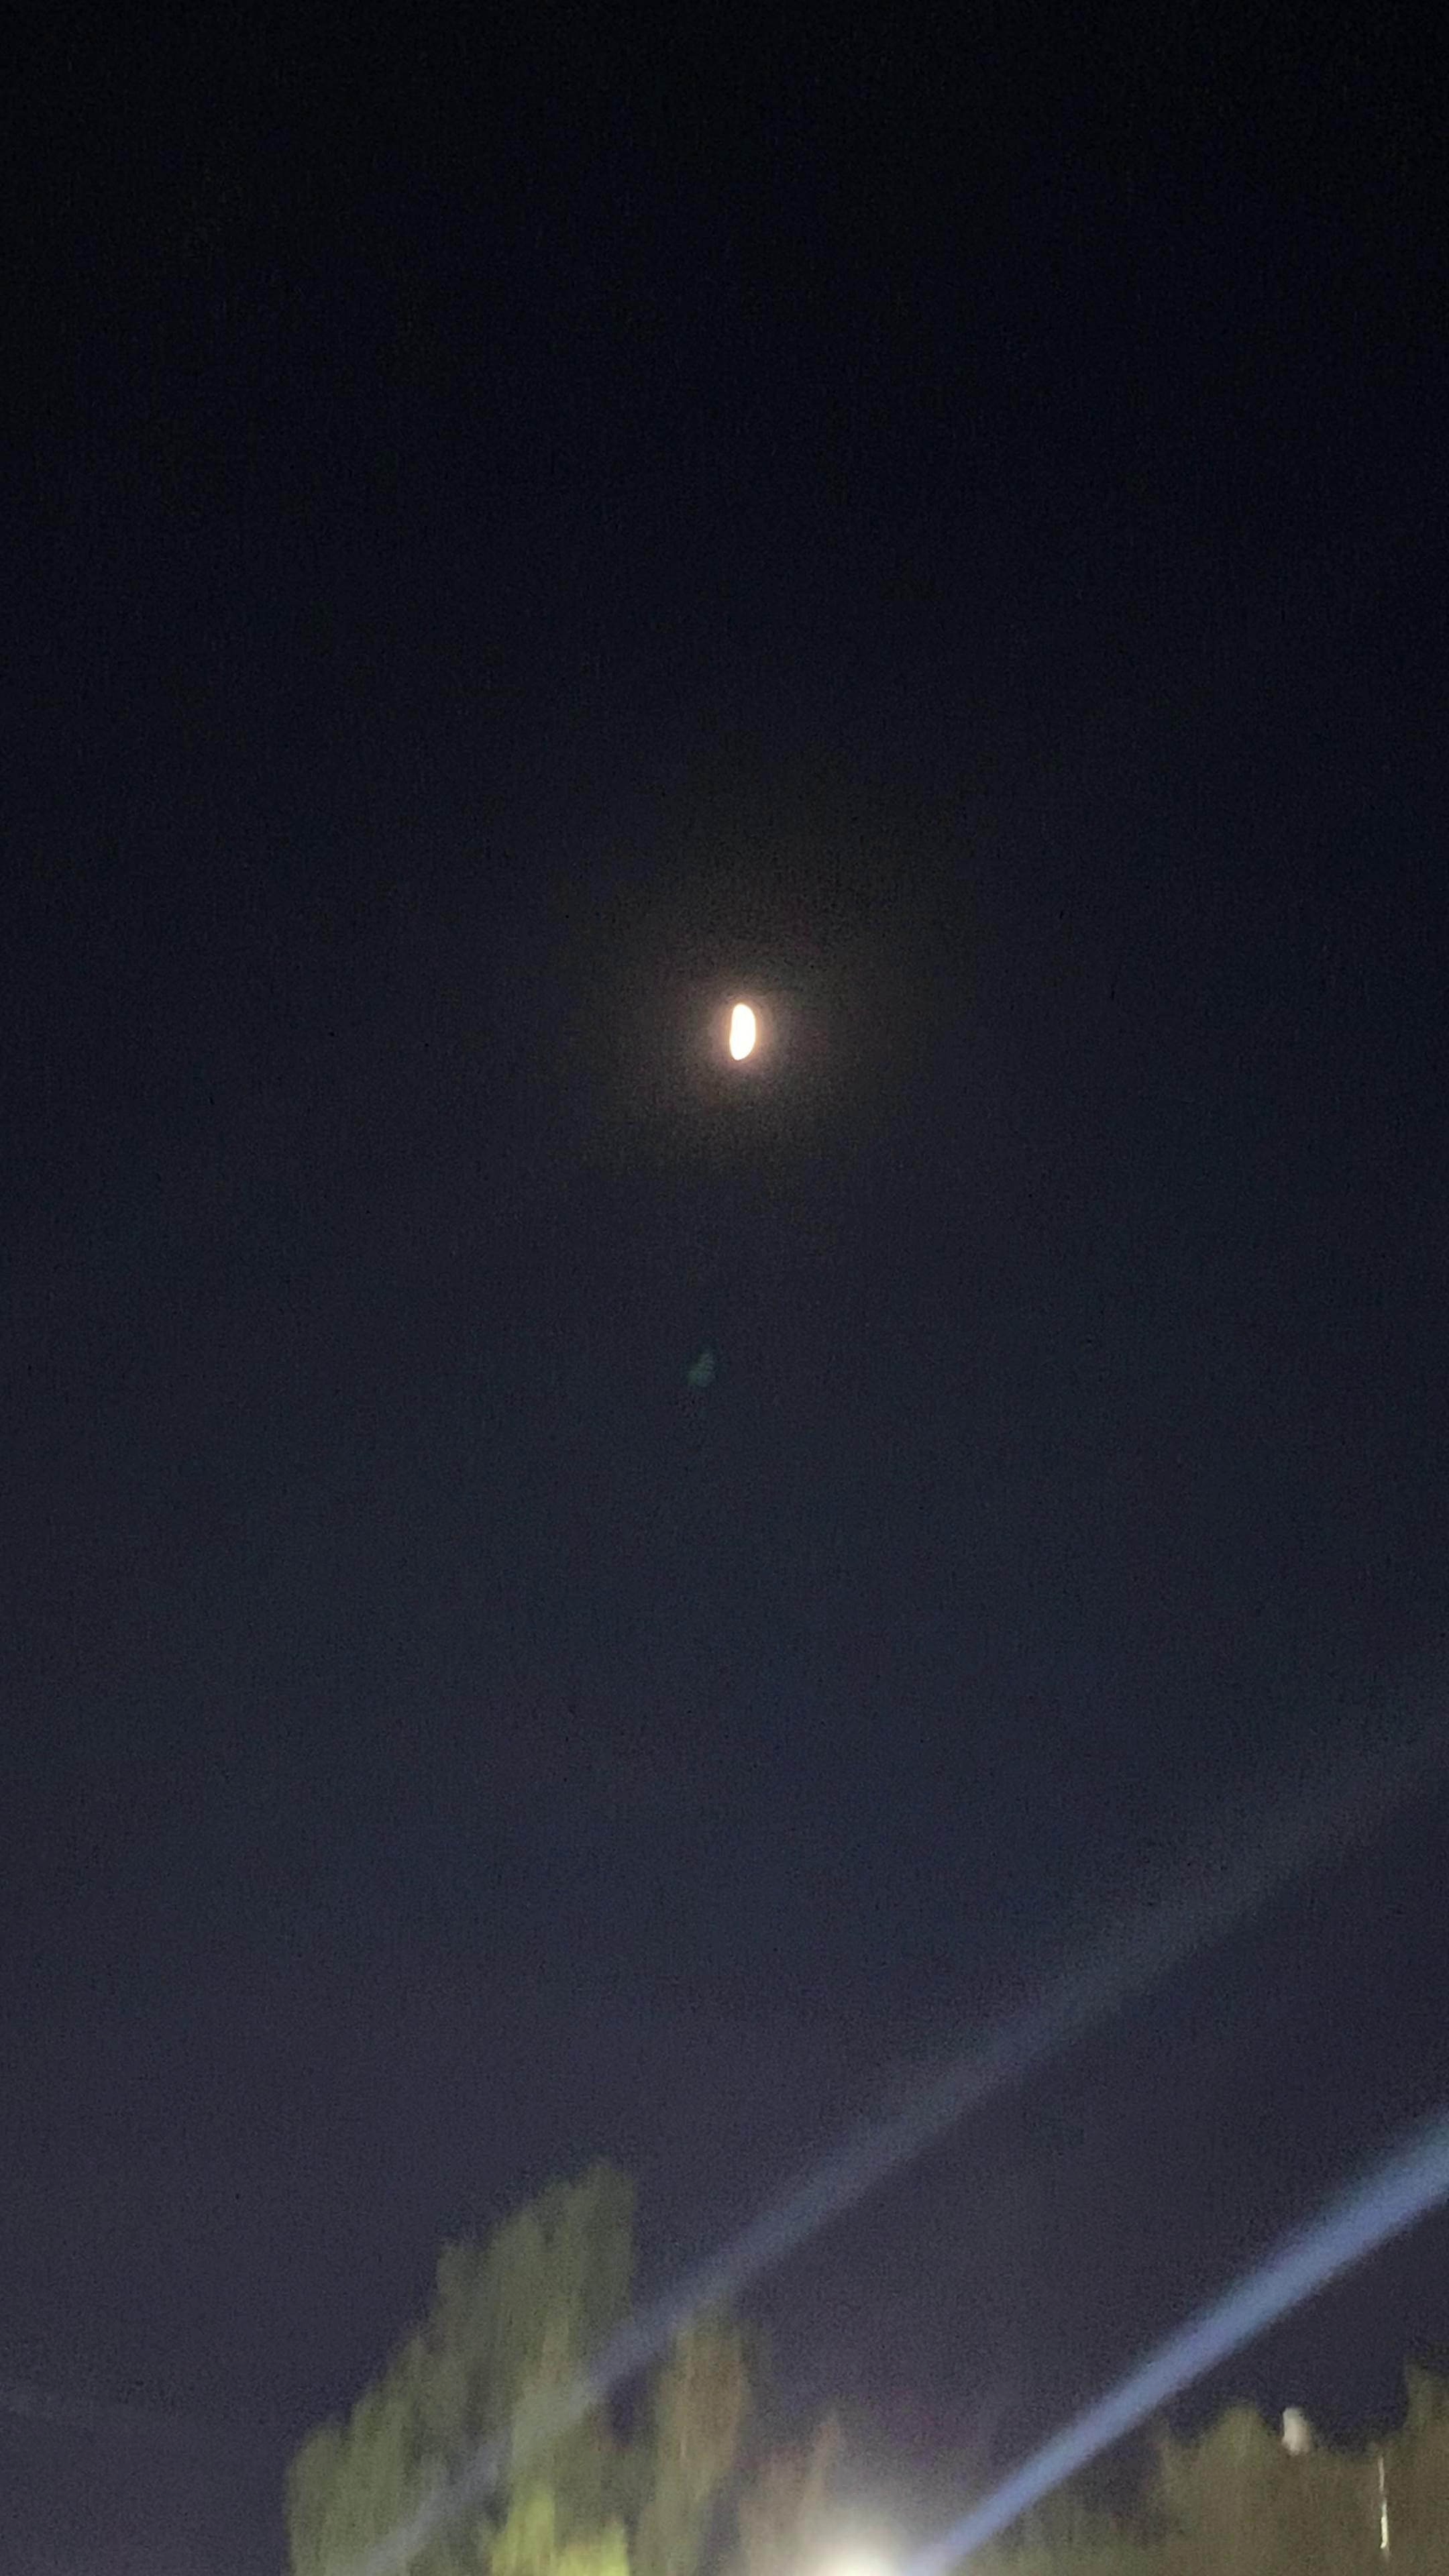moon: (695, 980, 796, 1097)
